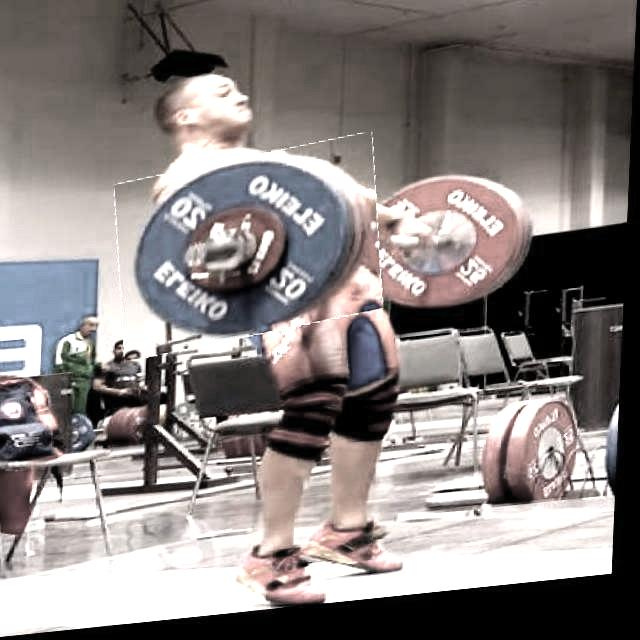barbell: (115, 146, 387, 360)
